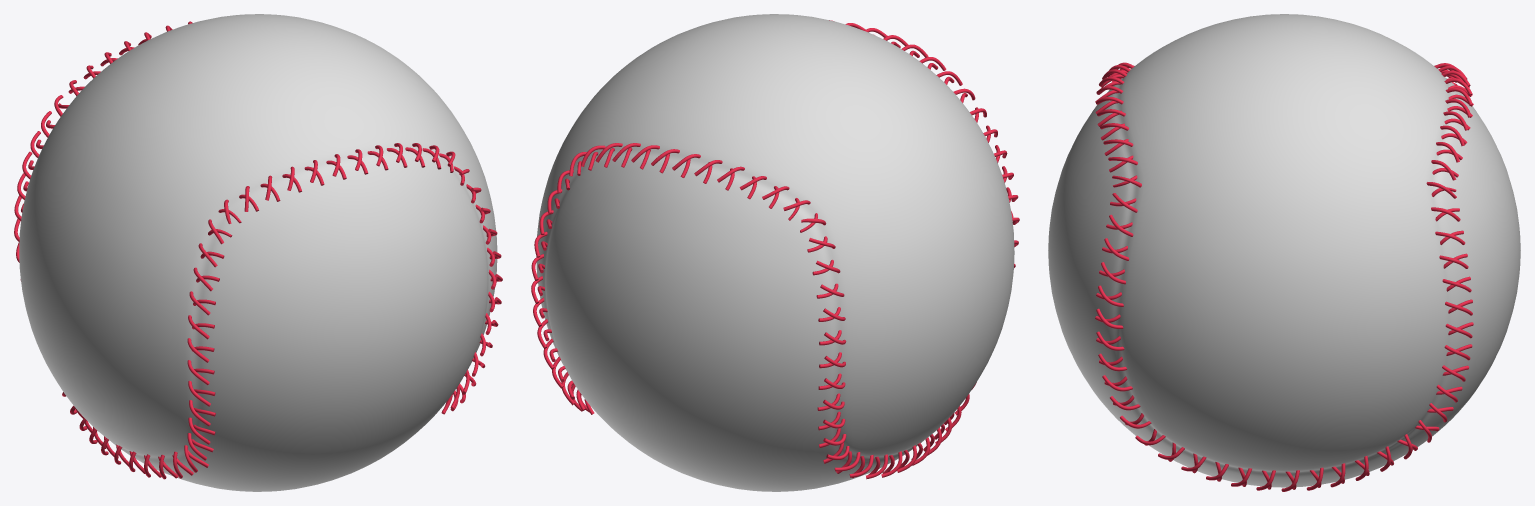
The model's file is Bal.fbx.
3 renders of one model, left to right at view 1: azimuth 30°, elevation 25°; view 2: azimuth 150°, elevation 25°; view 3: azimuth 270°, elevation 25°, orthographic.
Visible parts, largest first — view 1: Cube, BezierCurve; view 2: Cube, BezierCurve; view 3: Cube, BezierCurve.
Part boxes in pixels (<box>): Cube: <box>19,14,497,491</box>; BezierCurve: <box>14,21,502,479</box>; Cube: <box>536,14,1014,491</box>; BezierCurve: <box>531,20,1019,479</box>; Cube: <box>1048,14,1520,487</box>; BezierCurve: <box>1095,62,1473,491</box>.
Bounding box in the file's own units: 255 × 255 × 255.
